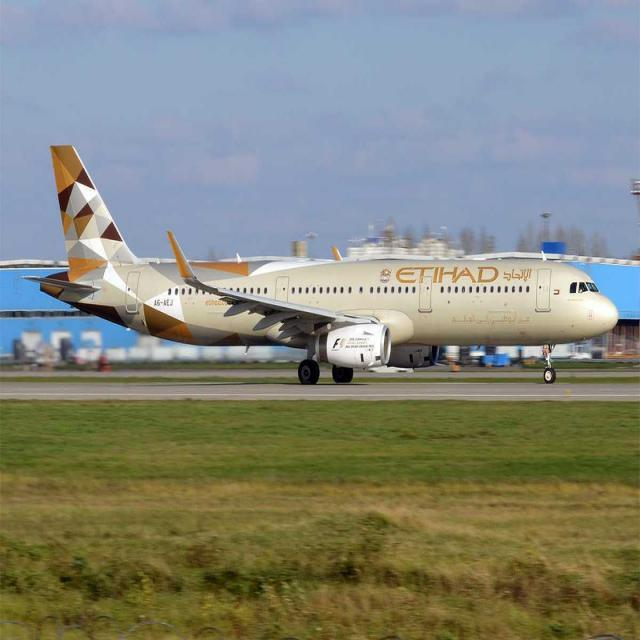Etihad Airways: (396, 265, 532, 284)
